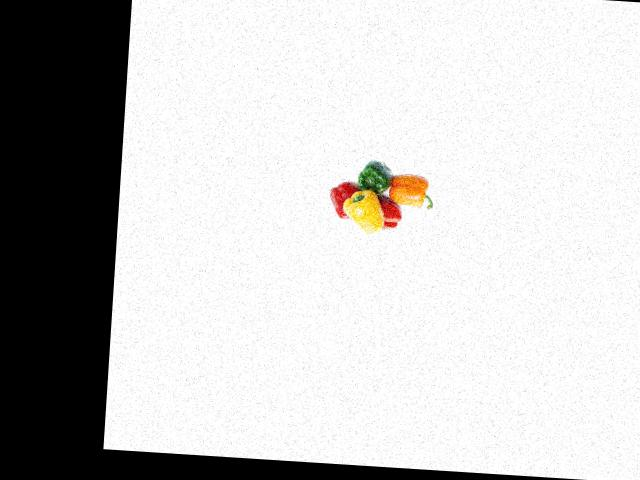bell_pepper: (348, 154, 395, 204)
